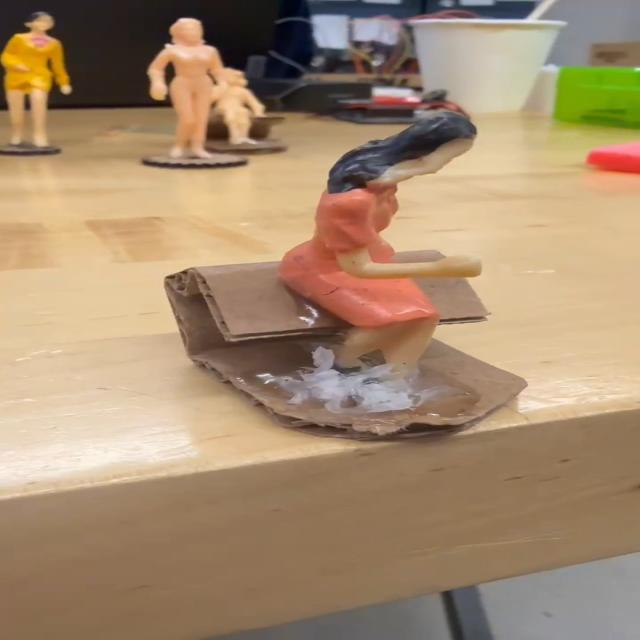Authorized: (282, 108, 479, 393)
